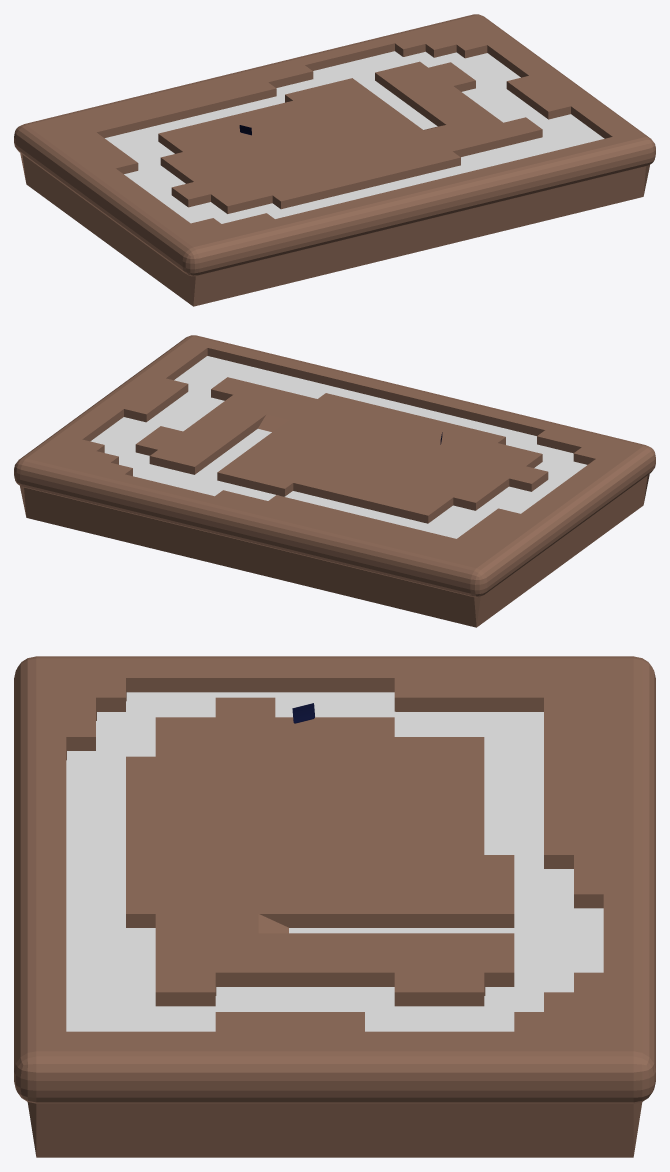
3 views of the same model, one above another, from view 1: azimuth 30°, elevation 25°; view 2: azimuth 150°, elevation 25°; view 3: azimuth 270°, elevation 25° (orthographic). The views are drawn at different scales.
Parts seen in each view (by area): view 1: 空岛, water; view 2: 空岛, water; view 3: 空岛, water.
Boxes of the visible parts, x1,y1,x2,y2 form: 空岛: [14, 14, 655, 306]; water: [105, 51, 604, 223]; 空岛: [14, 335, 655, 627]; water: [90, 356, 586, 538]; 空岛: [14, 656, 655, 1157]; water: [67, 692, 603, 1031].
Bounding box in the file's own units: 22.92 × 4.41 × 15.1.
